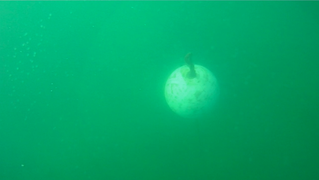buoy: (162, 63, 221, 119)
